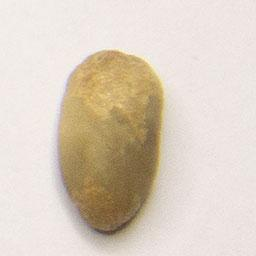longberry: (54, 47, 167, 238)
